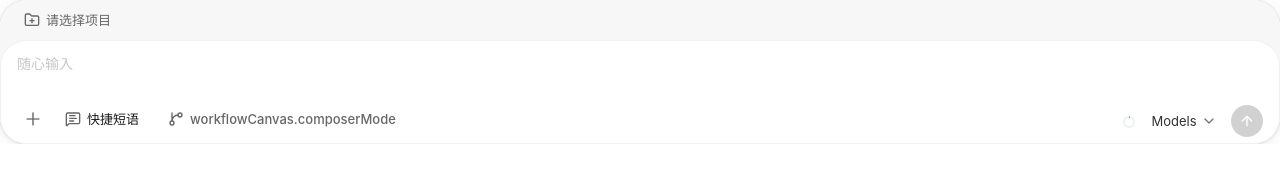
Test: ChatInput composer › renders desktop context usage indicator with compact action when usage is available
This screenshot has width=1280, height=174.
Step 1. Click the button with test id "context-usage-button" → (1129, 122), box [1121, 114, 1137, 130]
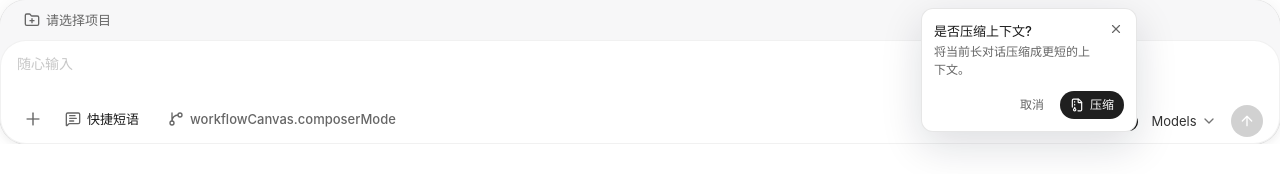
Expected: the button with test id "confirm-compact-context-button" reads "压缩"
Step 2. Click the button with test id "confirm-compact-context-button" → (1092, 105), box [1060, 91, 1124, 119]
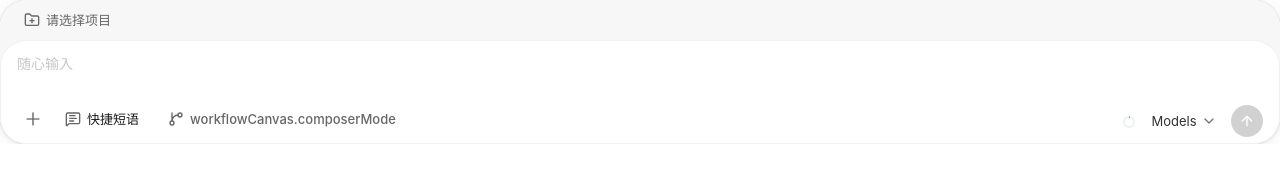
Expected: the button with test id "confirm-compact-context-button" is gone
